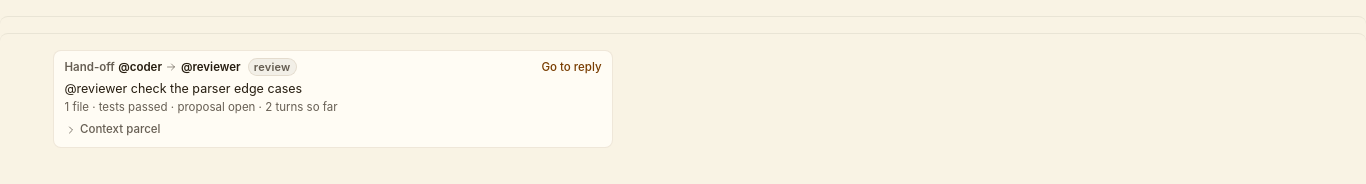
Scenario: hand-off cards › jumps to the named reply by id, even past an earlier turn by the same agent
Click the button "Go to reply".
click(571, 67)  # box [541,59,602,75]
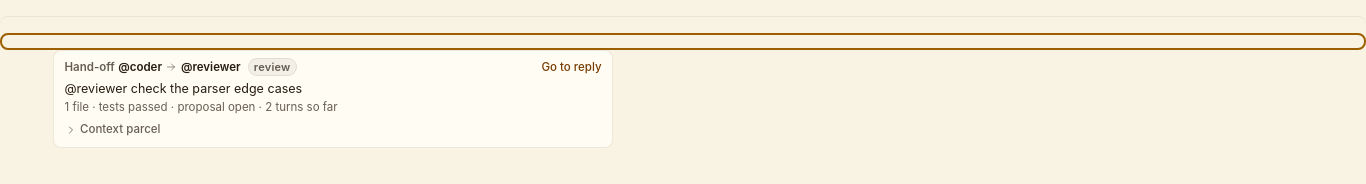
Click the button "Go to reply".
click(571, 67)  # box [541,59,602,75]
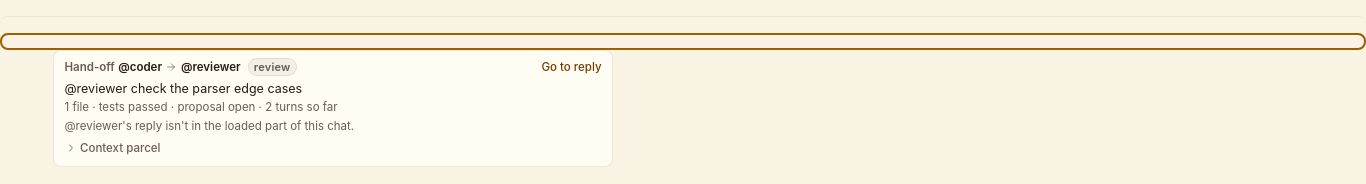
Expected: the text "@reviewer's reply isn't in the loaded part of this chat." is shown, [64,119,354,133]
